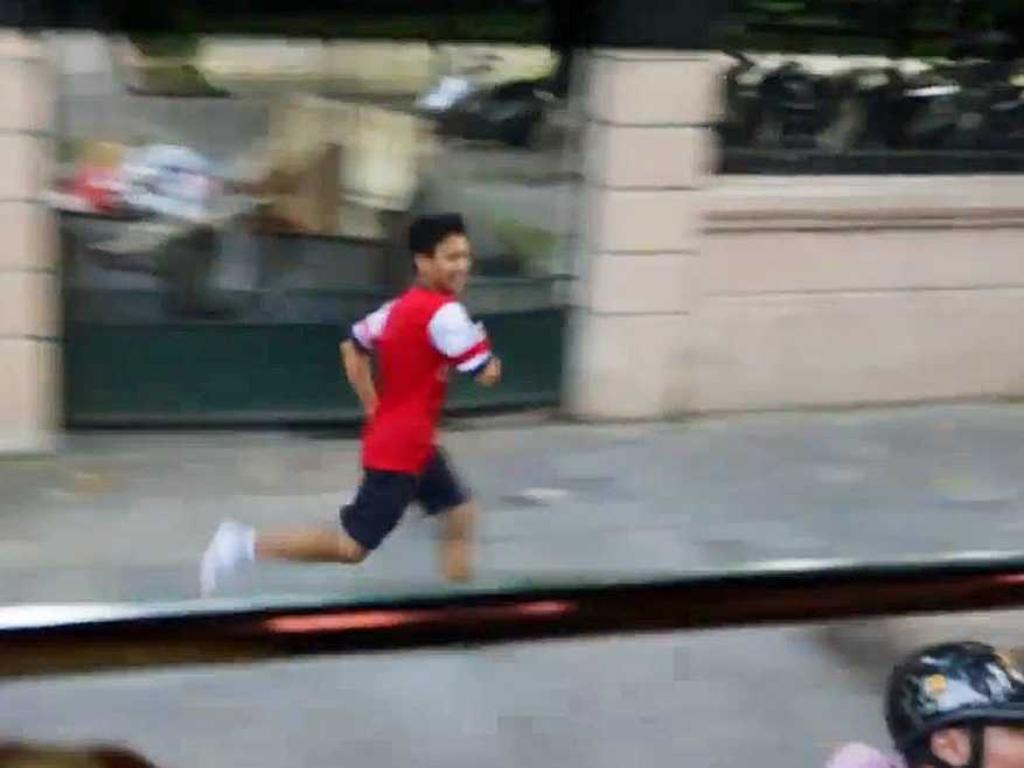face: (969, 716, 1021, 768), (431, 241, 469, 293)
